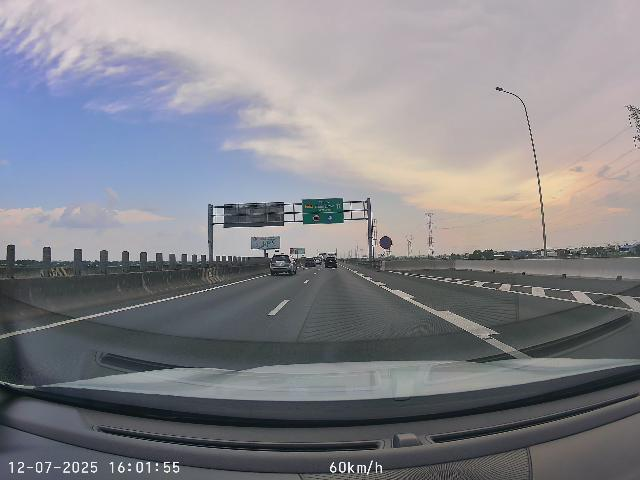127-toc-do-toi-da-100: (312, 214, 320, 222)
130-cam-dung-va-do-xe: (379, 236, 392, 249)
306-toc-do-toi-thieu-60: (326, 214, 334, 222)
437-bat-dau-duong-cao-toc: (336, 202, 341, 209)
